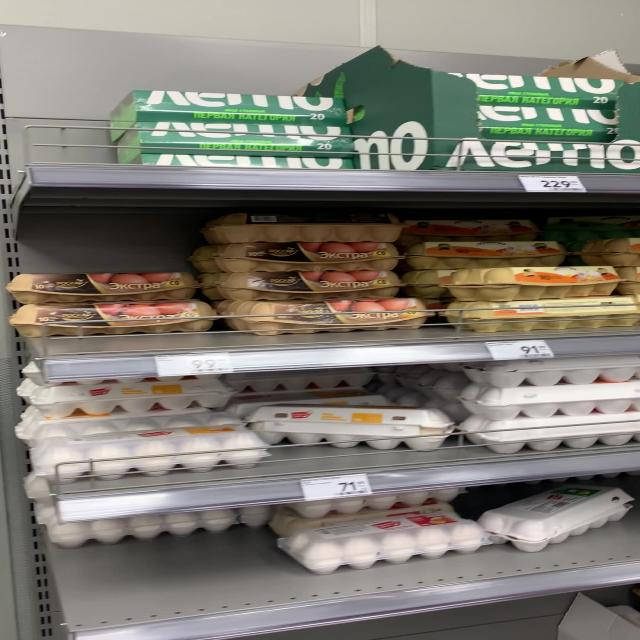egg box: (275, 506, 488, 574), (31, 423, 267, 482), (107, 89, 356, 139), (484, 482, 634, 554), (116, 120, 362, 162), (242, 405, 459, 451), (2, 300, 217, 338), (230, 296, 428, 334), (31, 380, 234, 417), (438, 68, 623, 108), (211, 239, 401, 274), (455, 296, 637, 332), (5, 270, 198, 303), (211, 273, 412, 303), (443, 266, 618, 299), (405, 240, 566, 272), (400, 216, 538, 244)
